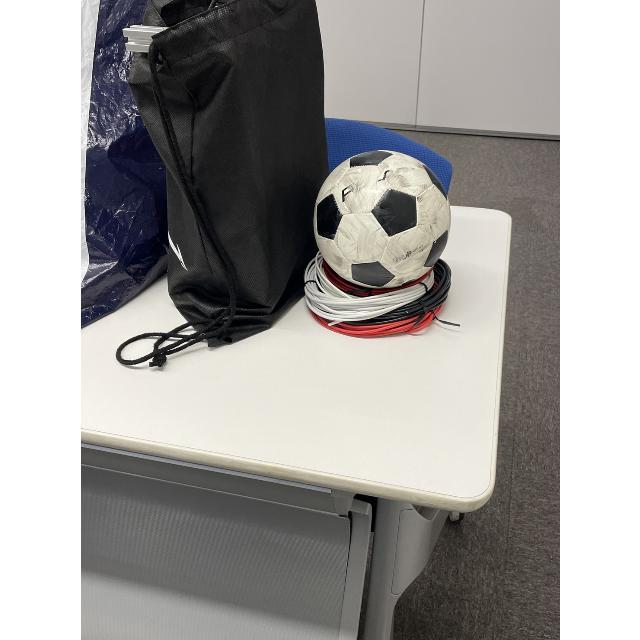ball: (312, 151, 448, 289)
